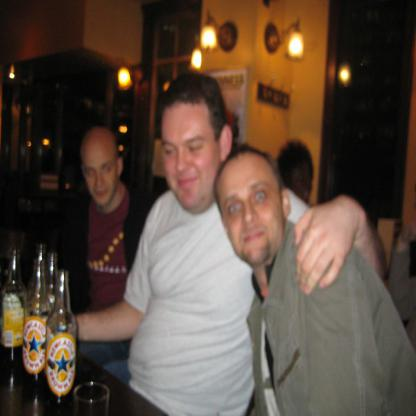drinking: (23, 245, 53, 401), (46, 270, 77, 416), (0, 247, 28, 385)
